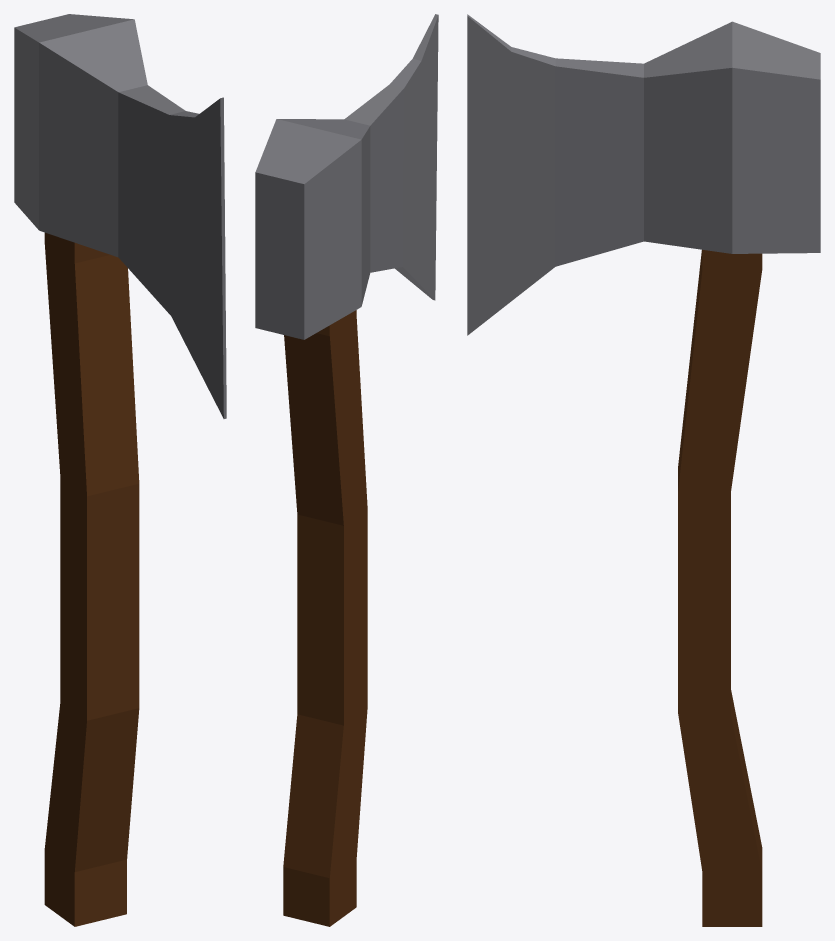
File: axe.fbx
The picture shows the model from 3 angles, left to right: view 1: azimuth 30°, elevation 25°; view 2: azimuth 150°, elevation 25°; view 3: azimuth 270°, elevation 25°; orthographic projection. The views are drawn at different scales.
Visible parts, largest first — view 1: Cube; view 2: Cube; view 3: Cube.
Part boxes in pixels (left/top/right/bottom): Cube: left=14, top=14, right=226, bottom=926; Cube: left=255, top=14, right=438, bottom=926; Cube: left=467, top=14, right=820, bottom=926.
Size of the model in its own units: 7.32 by 66.46 by 23.65.
